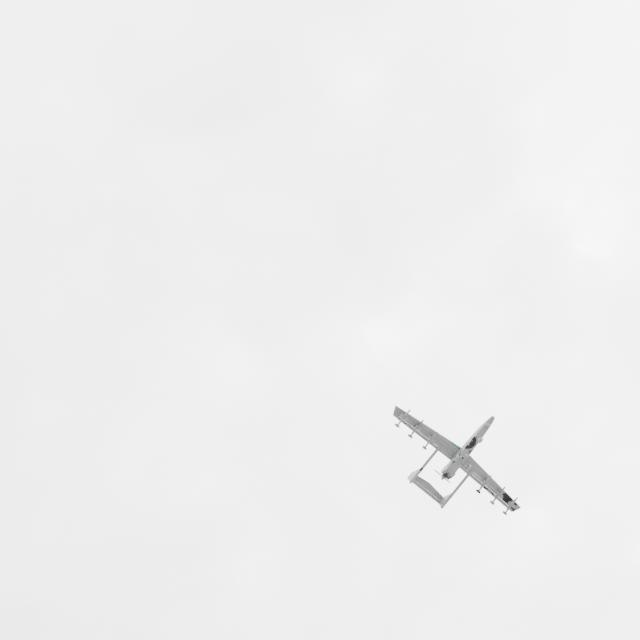Airaplan: (393, 405, 521, 516)
